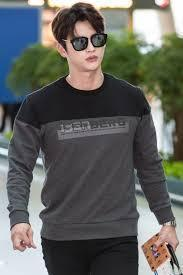sweater: (8, 66, 174, 249)
